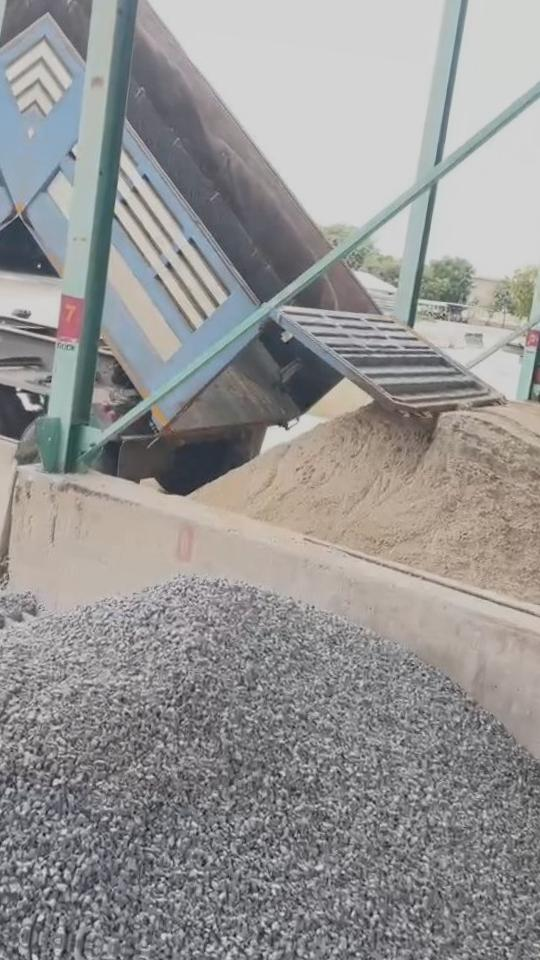gravel: (0, 578, 540, 960), (0, 589, 39, 639)
sand: (193, 404, 540, 618), (507, 403, 540, 473), (313, 379, 369, 418)
